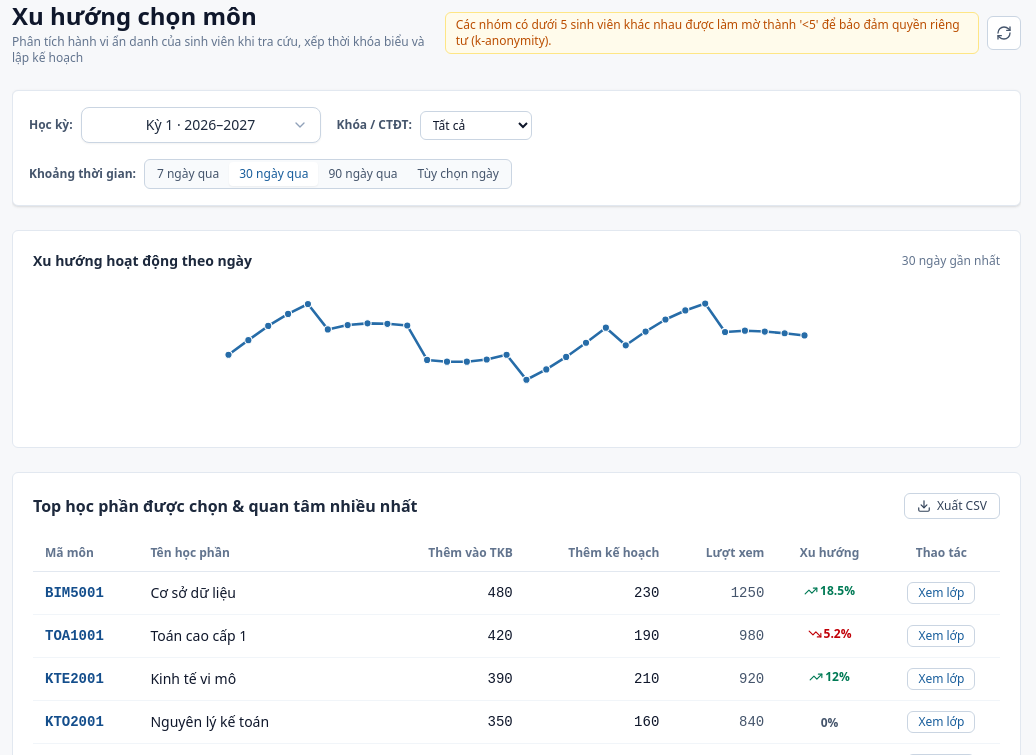
Test case: Brief A2: Admin Trends Page (/admin/trends) › bấm 'Xem lớp' hiển thị danh sách lớp chi tiết của môn đó
Expected: the text "BIM5001" is shown, 33,572 -> 138,614
Note: Bấm xem lớp môn đầu tiên (BIM5001)
Click the button "Xem lớp" in the row of "480".
click(941, 593)  # box 907,582 -> 975,604
(page scrolled)
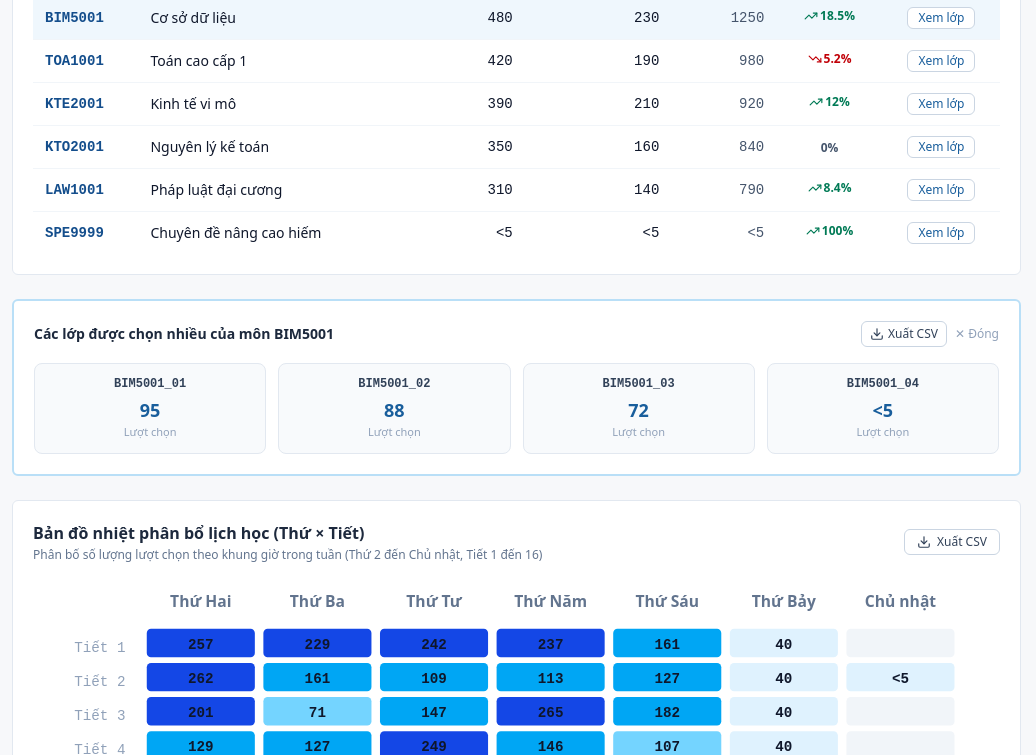
Expected: the text "BIM5001_01" is shown, 114,377 -> 186,391
Expected: the text "BIM5001_02" is shown, 358,377 -> 430,391
